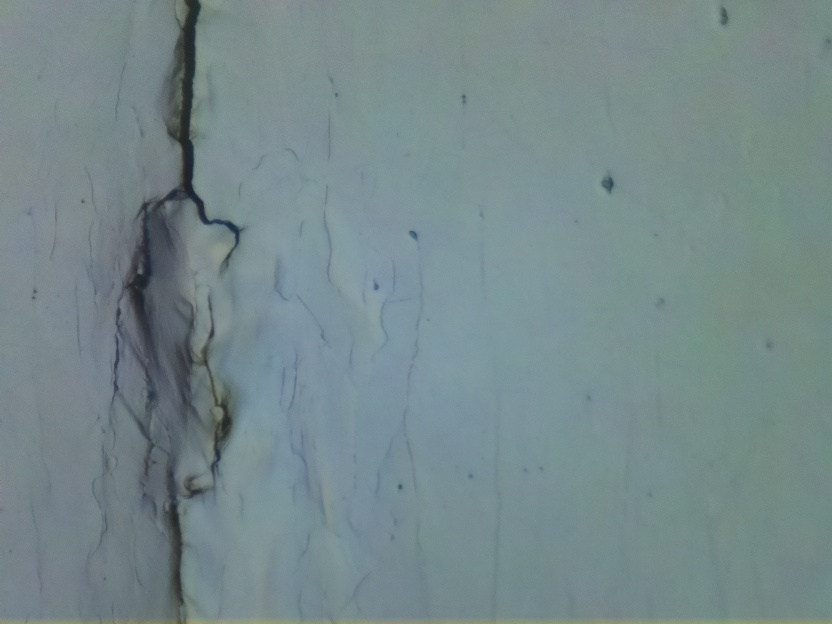crack: (164, 305, 234, 624), (171, 0, 242, 261)
